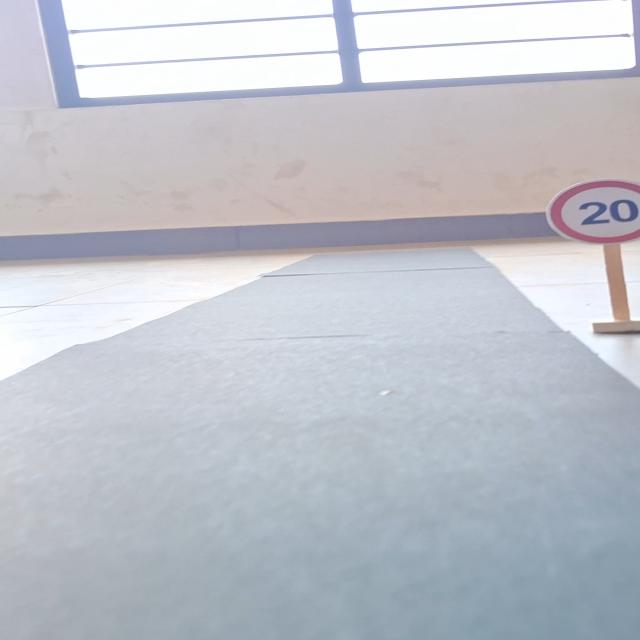Speed20: (541, 175, 640, 248)
